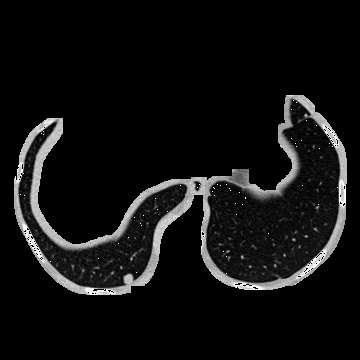PN: (123, 274, 133, 284)
